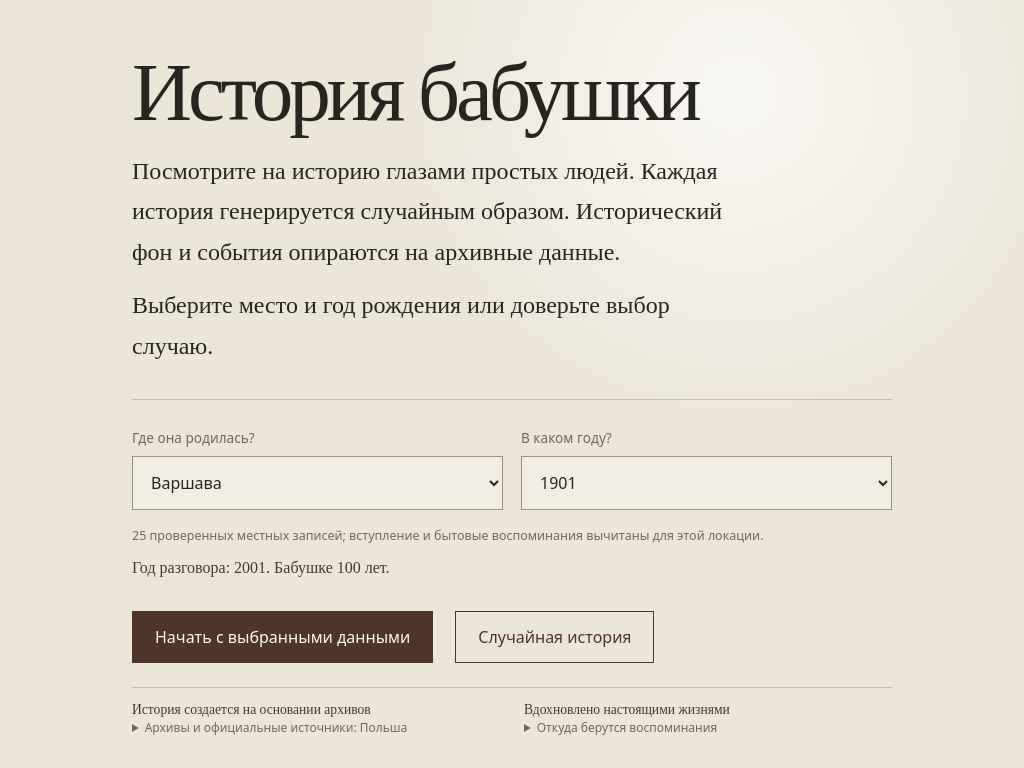
accessible vertical slice › changes the archive list with the selected location
Select "Москва" in the dropdown labelled "Где она родилась?": (318, 482) [132,456,503,510]
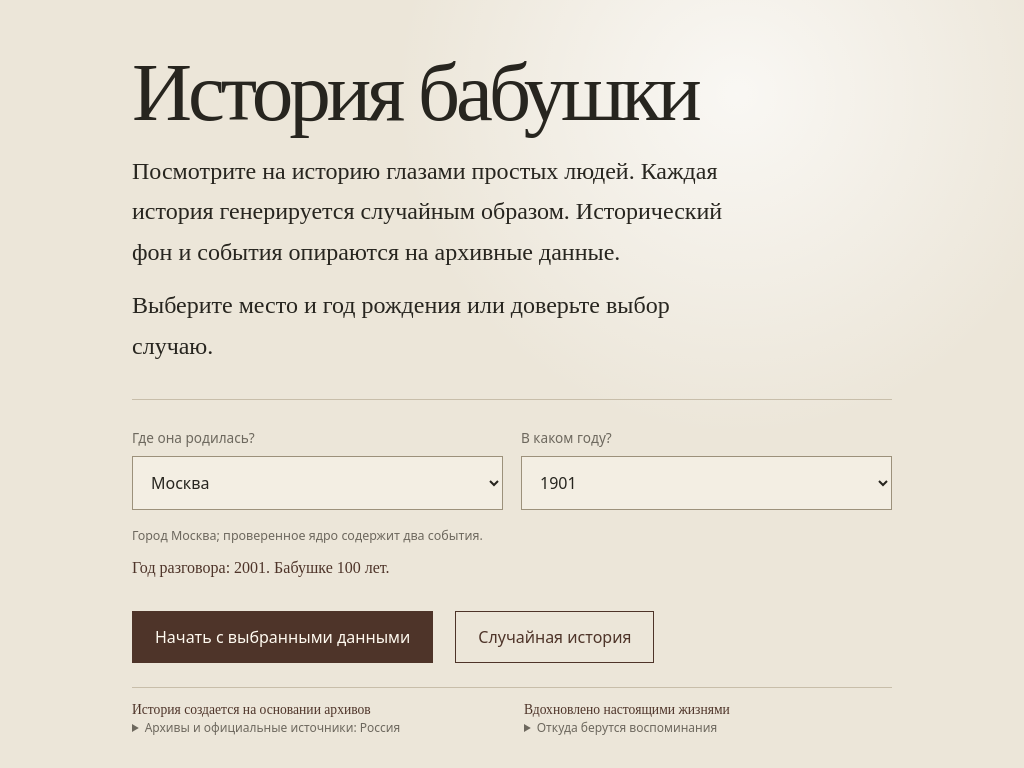
Select "Ленинград" in the dropdown labelled "Где она родилась?": (318, 482) [132,456,503,510]
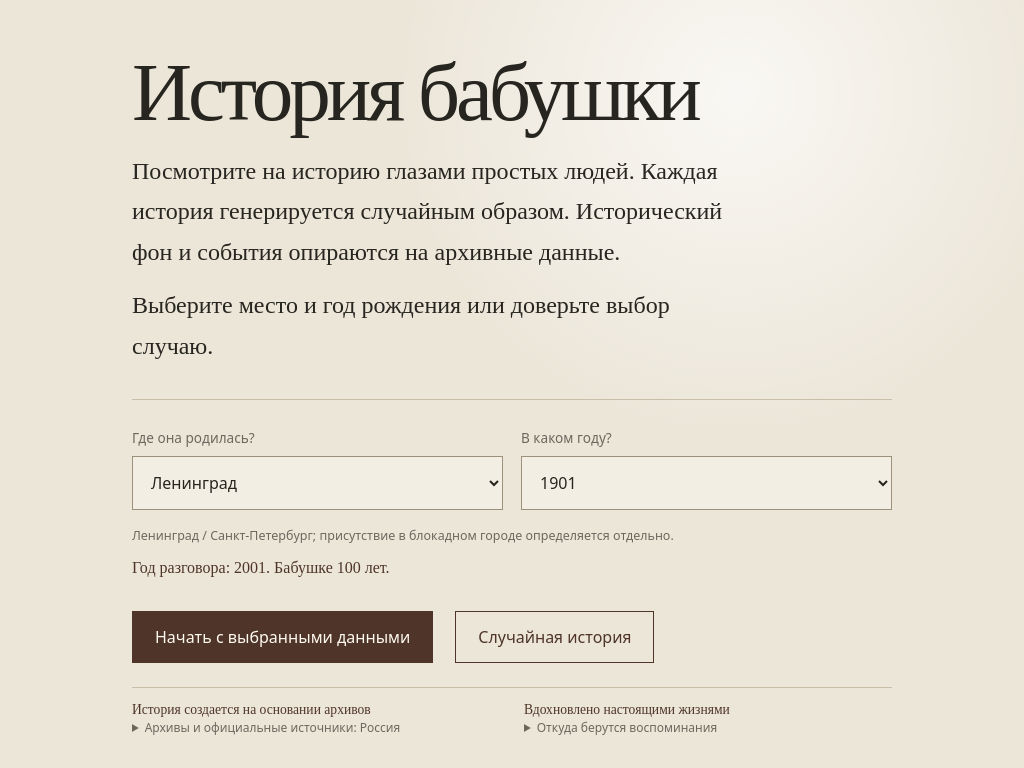
Select "Лион" in the dropdown labelled "Где она родилась?": (318, 482) [132,456,503,510]
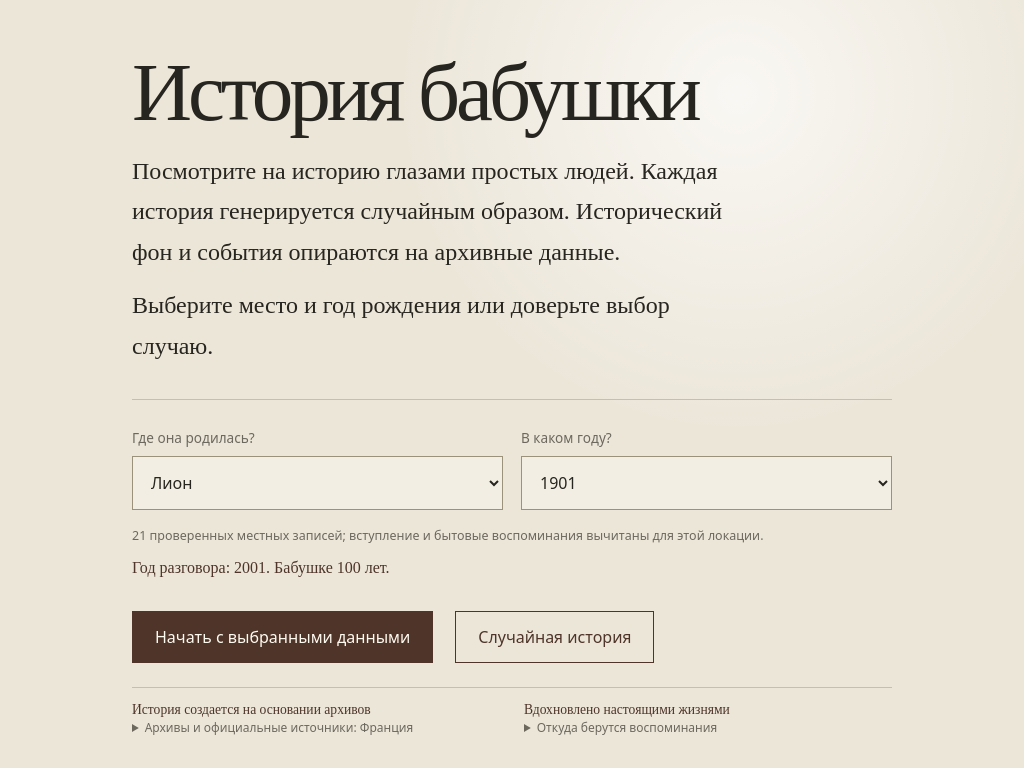
Result: the heading "Архивы и официальные источники: Франция" is shown at [132,719,413,737]
